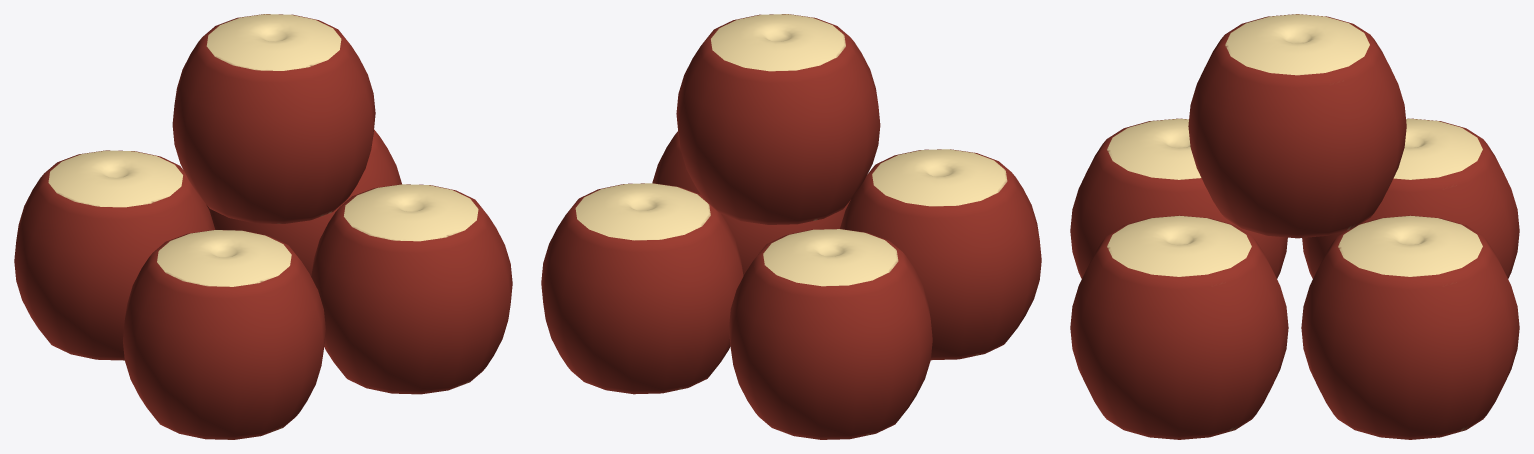
File: apple.fbx
The picture shows the model from 3 angles, left to right: view 1: azimuth 30°, elevation 25°; view 2: azimuth 150°, elevation 25°; view 3: azimuth 270°, elevation 25°; orthographic projection. The views are drawn at different scales.
Parts seen in each view (by area): view 1: Sphere.007, Sphere.001, Sphere, Sphere.003, Sphere.002; view 2: Sphere.007, Sphere.003, Sphere.002, Sphere.001, Sphere; view 3: Sphere, Sphere.007, Sphere.002, Sphere.001, Sphere.003.
Part boxes in pixels (box(x1,y1,x2,y2)): Sphere.007: box(172, 14, 375, 223); Sphere.001: box(123, 230, 325, 439); Sphere: box(311, 184, 512, 394); Sphere.003: box(14, 150, 215, 360); Sphere.002: box(206, 129, 401, 276); Sphere.007: box(676, 14, 880, 224); Sphere.003: box(729, 229, 932, 439); Sphere.002: box(541, 183, 743, 394); Sphere.001: box(840, 149, 1041, 360); Sphere: box(652, 131, 850, 275); Sphere: box(1070, 215, 1288, 439); Sphere.007: box(1188, 14, 1406, 238); Sphere.002: box(1301, 215, 1519, 439); Sphere.001: box(1070, 118, 1287, 278); Sphere.003: box(1302, 118, 1519, 278).
Bounding box in the file's own units: 13.09 × 11.01 × 13.13.
